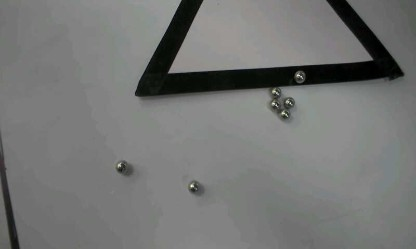ironball: (114, 160, 128, 174), (293, 69, 305, 83), (187, 179, 199, 192), (269, 86, 281, 98), (269, 98, 280, 110), (279, 107, 290, 119), (283, 96, 294, 108)
